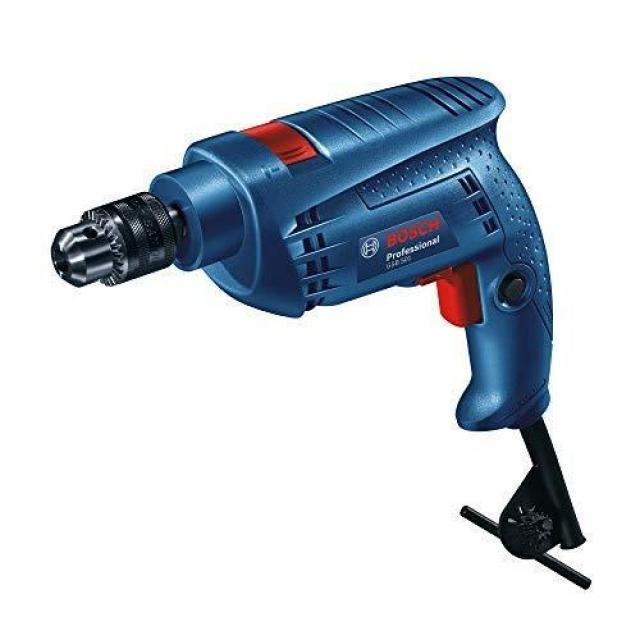drill: (51, 75, 594, 594)
